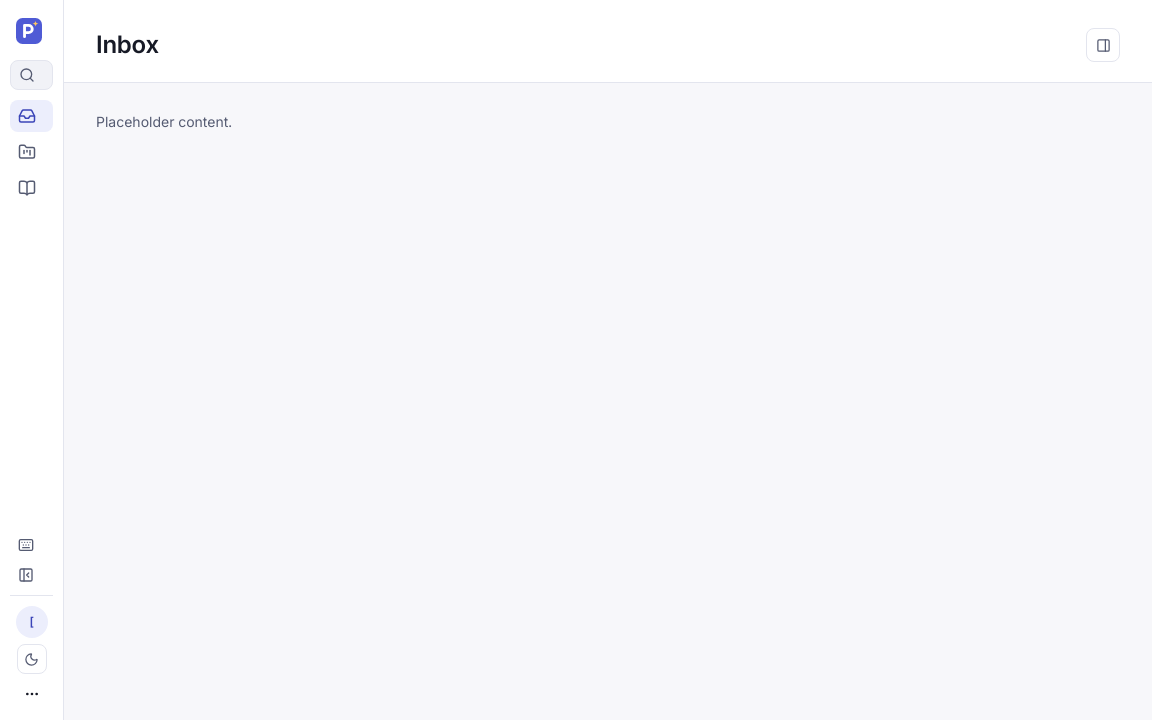
Test: right pane › has visible controls to open and close it
Click the button named "Right pane". click: point(1103, 45)
box: [1086,28,1120,62]
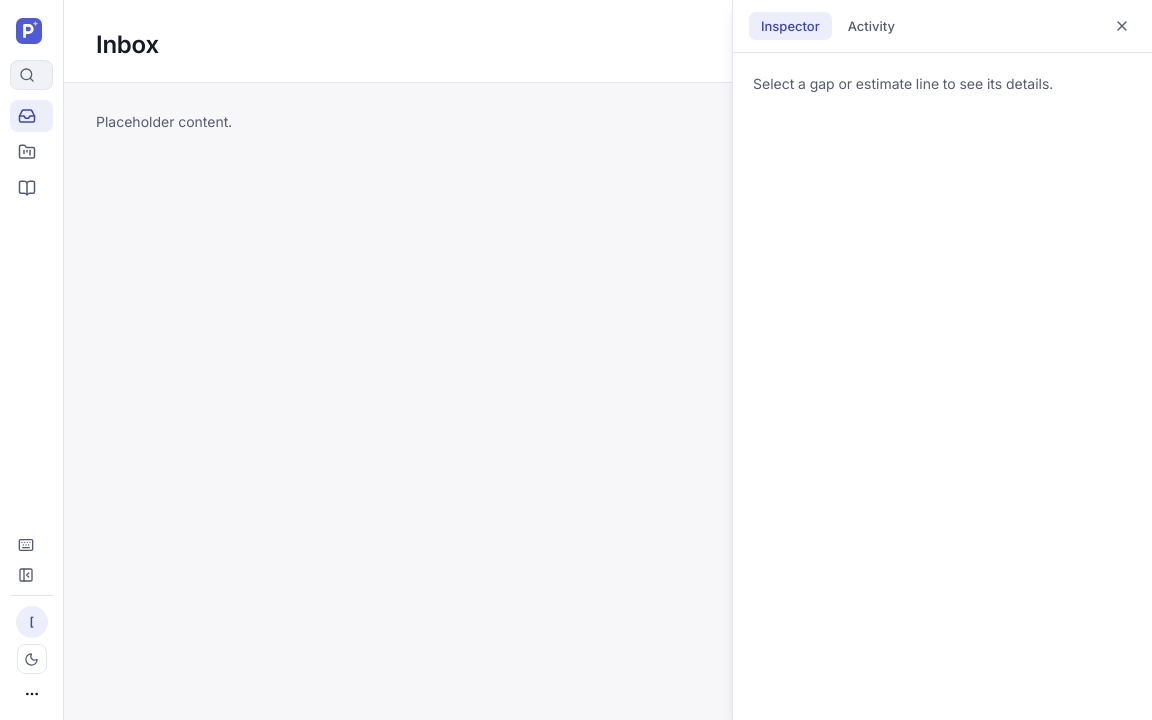
Now the element "details" is shown, box [732,0,1151,719]
Click the button named "Close right pane". click: point(1122, 26)
box: [1108,12,1136,40]
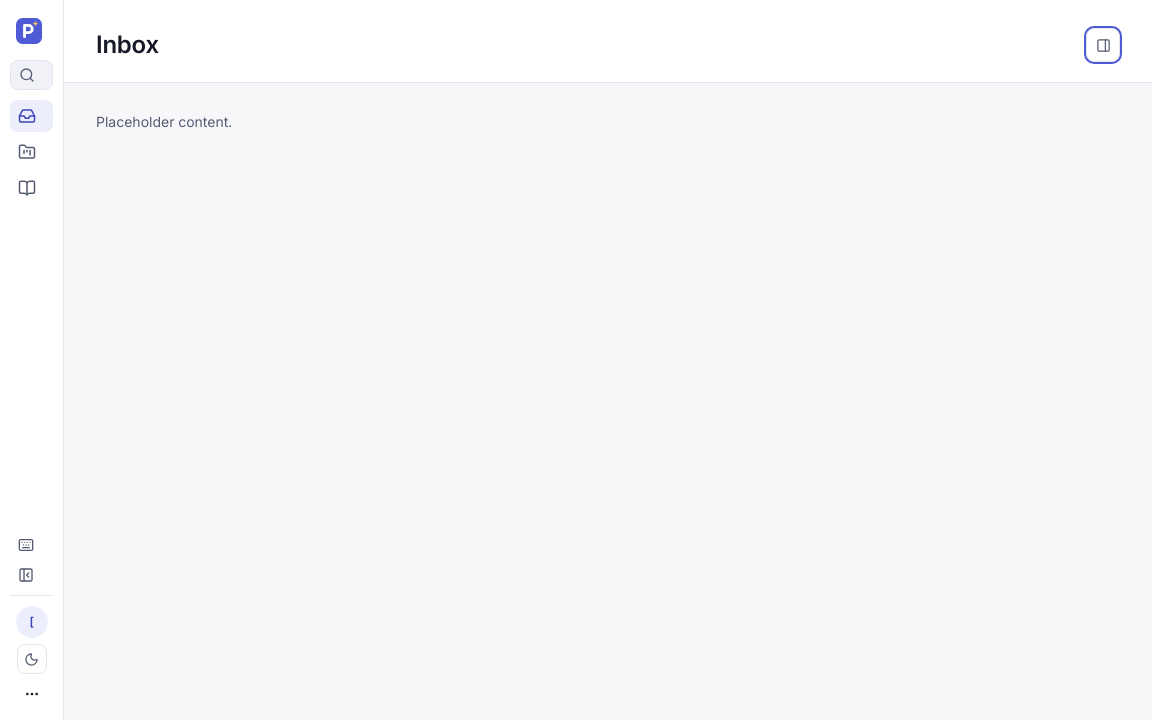
Now the text "details" is gone
